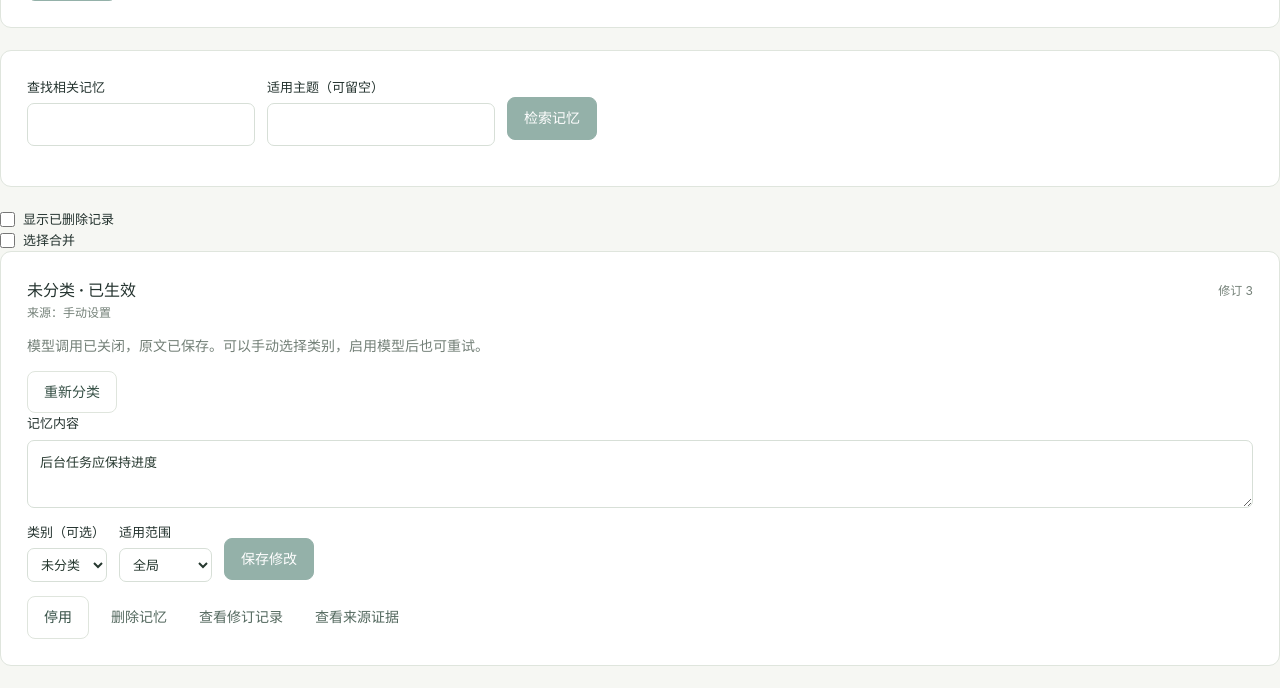
changes only the display category and never sends confirmation or semantic fields
(page scrolled)
Expected: the button "保存修改" is disabled, [224,538,314,580]
Expected: the text "模型调用已关闭，原文已保存。可以手动选择类别，启用模型后也可重试。" is shown, [27,337,489,354]
Step 1. Select "编程" in the dropdown labelled "类别（可选）" → [67, 566], box [27,548,107,582]
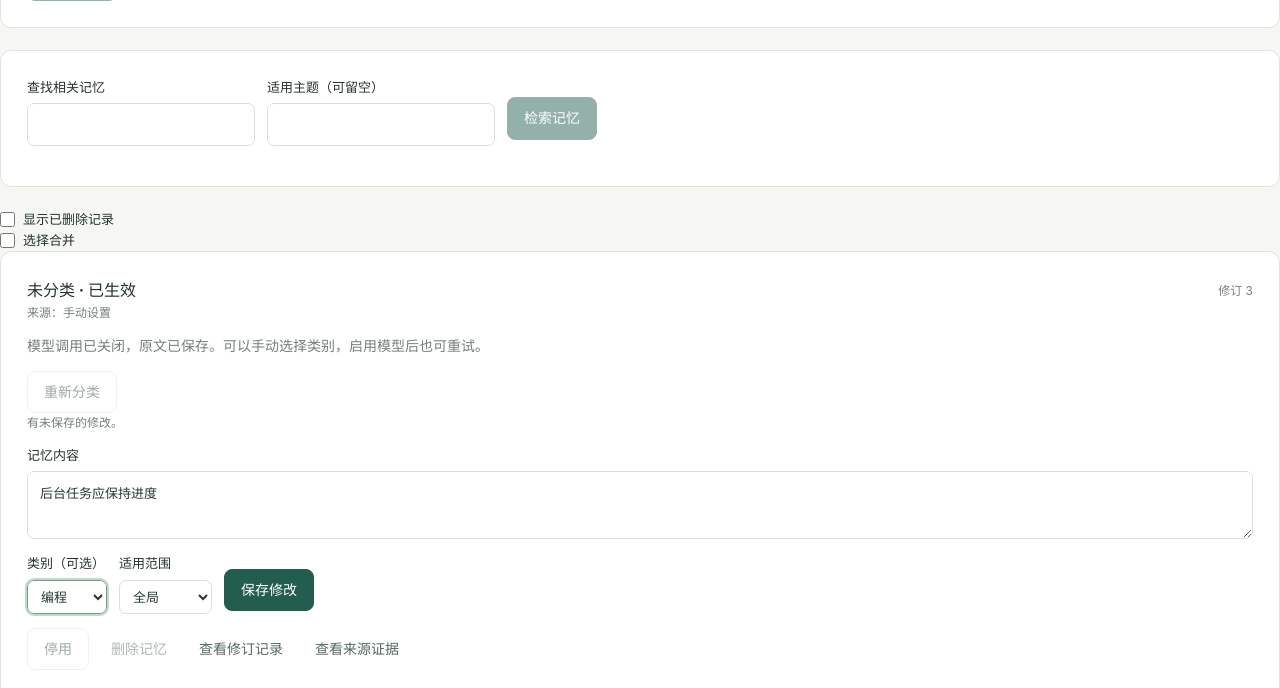
Expected: the button "停用" is disabled, [27,628,89,670]
Step 2. Click the button "保存修改" → [269, 590], box [224,569,314,612]
(page scrolled)
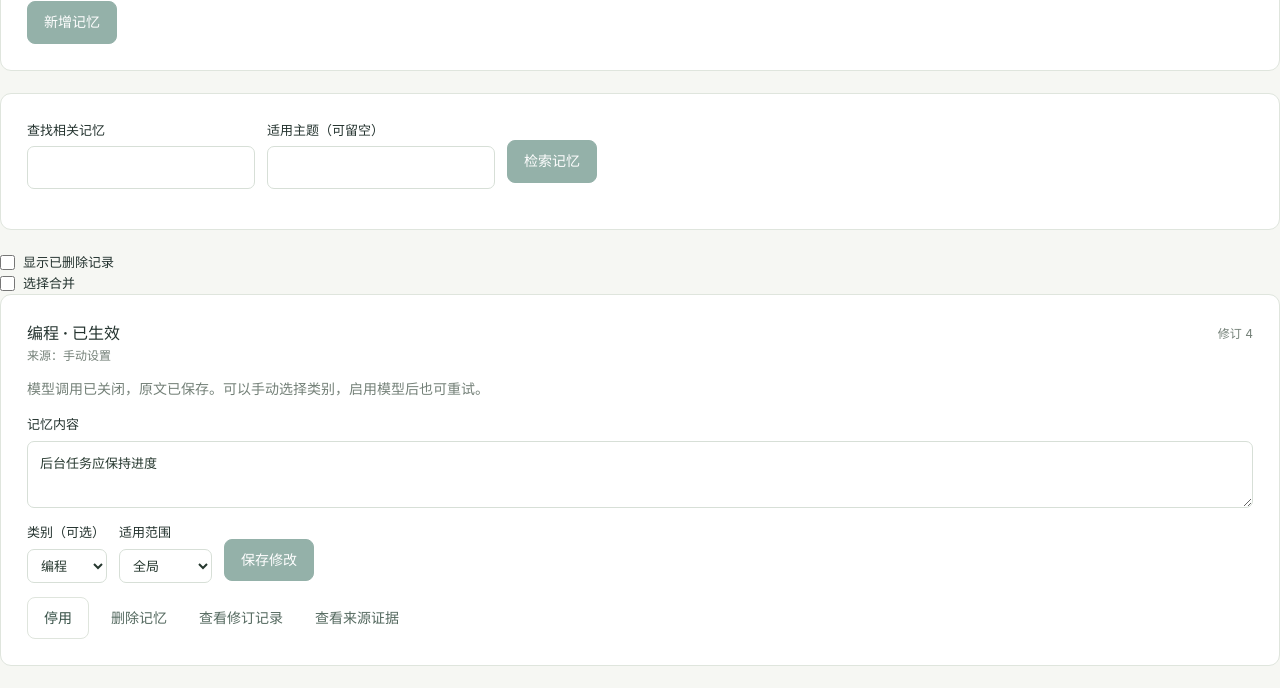
Expected: the button "保存修改" is disabled, [224,538,314,581]
